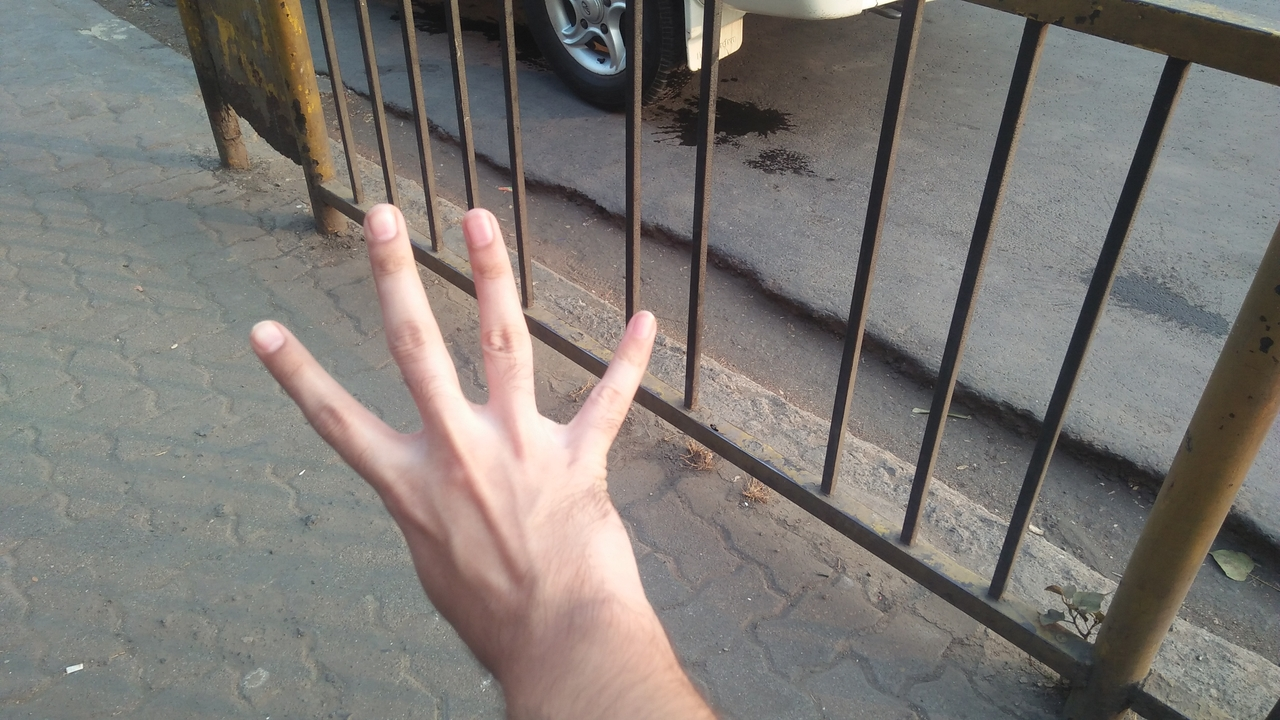fingertip: (350, 196, 410, 256), (238, 308, 294, 364), (450, 196, 504, 254), (610, 304, 668, 356)
